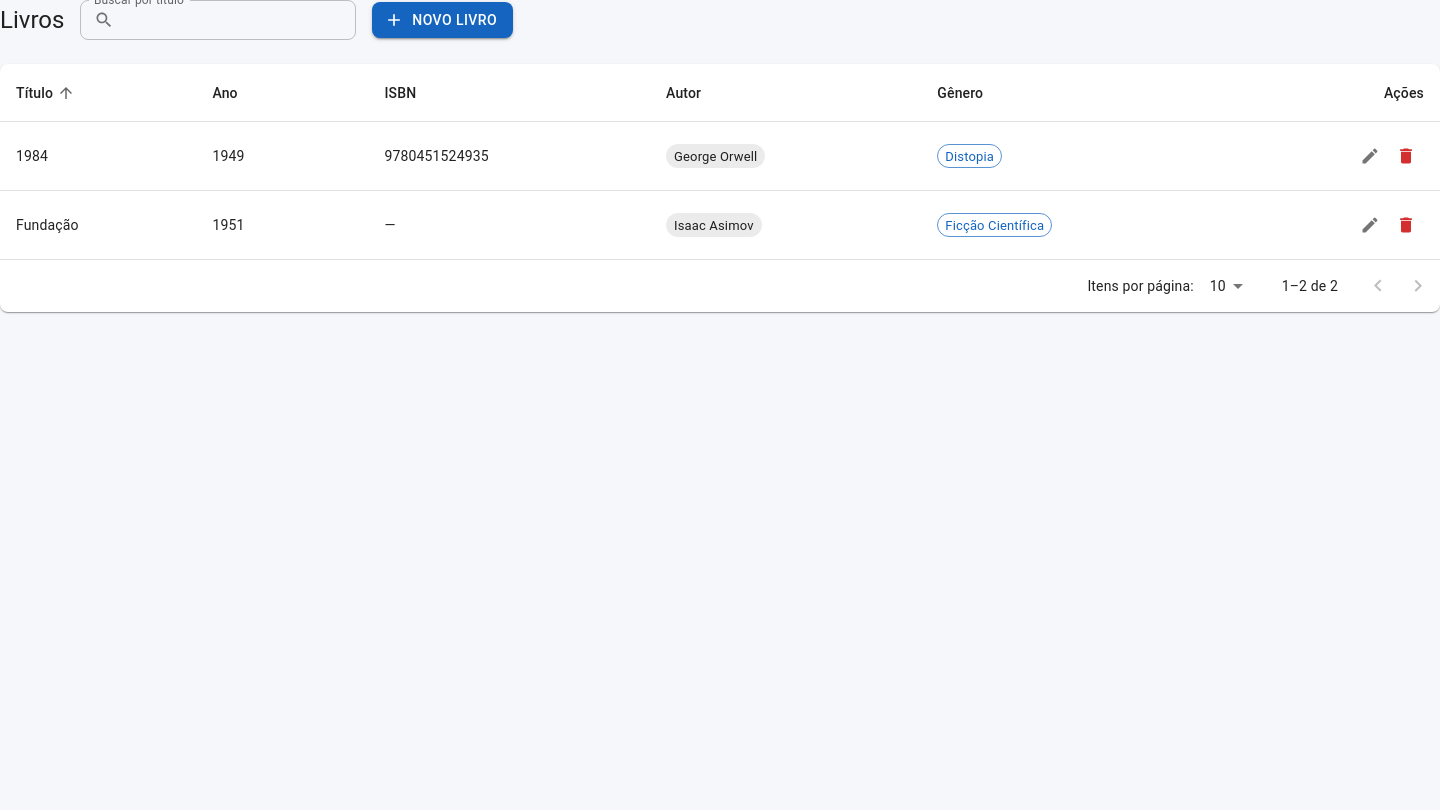
Test case: BooksPage › deleting a book › asks for confirmation and then deletes
Click the button named "Excluir 1984": (1406,156) [1388,138,1424,174]
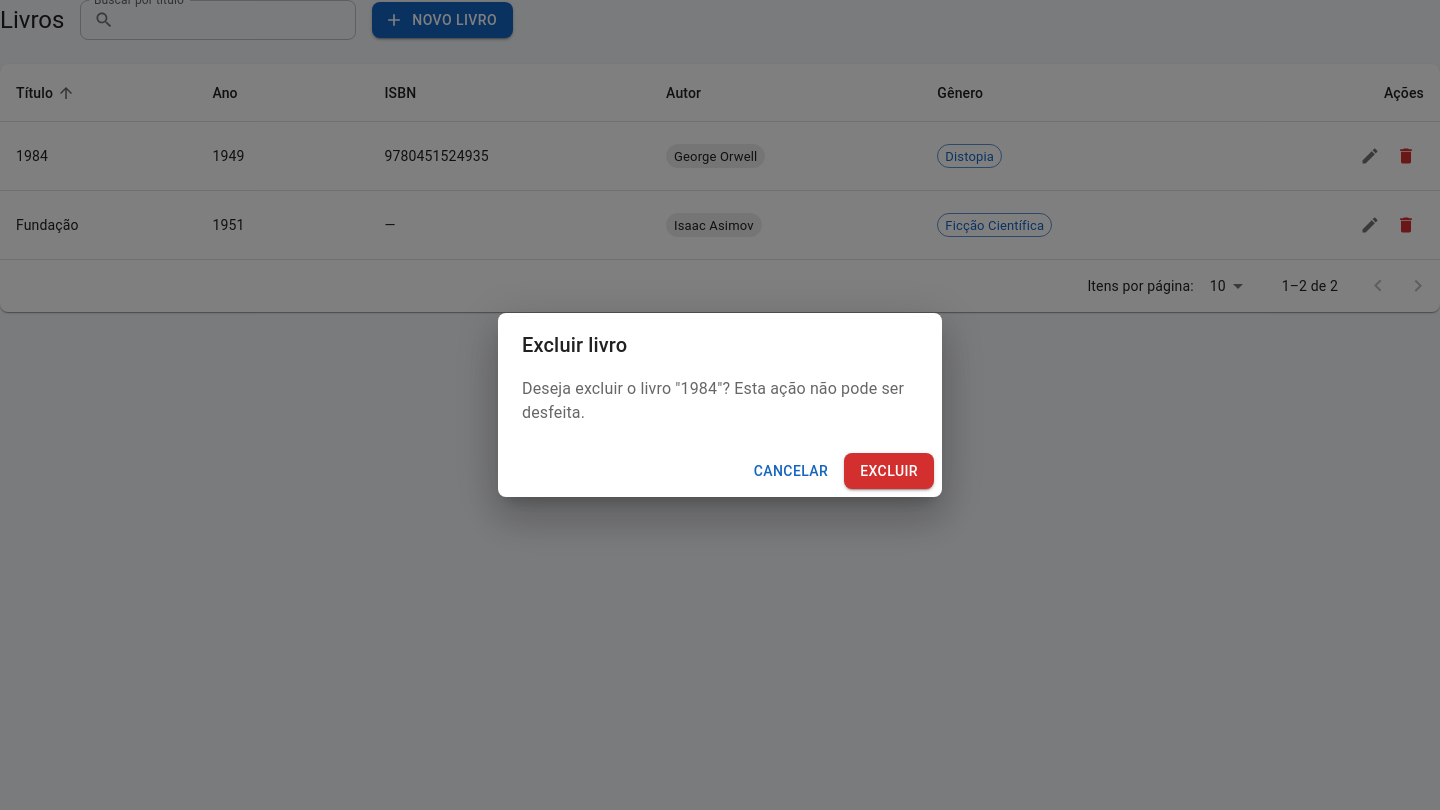
Check: the text "Deseja excluir o livro \"1984\"" is shown, box [522,379,904,422]
Click the button "Excluir": (889,471) [844,453,934,489]
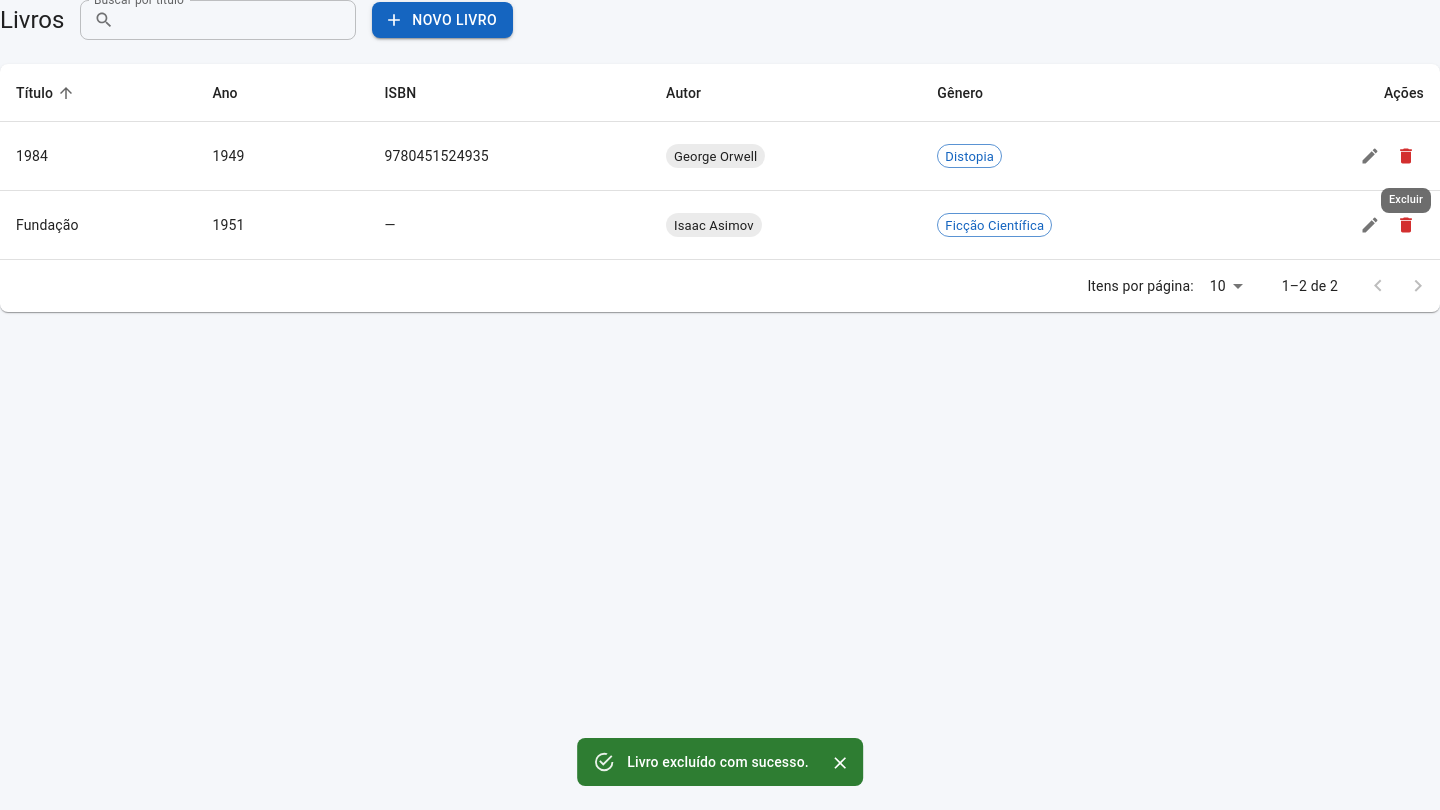
Check: the text "Livro excluído com sucesso." is shown, box [627,754,809,770]
